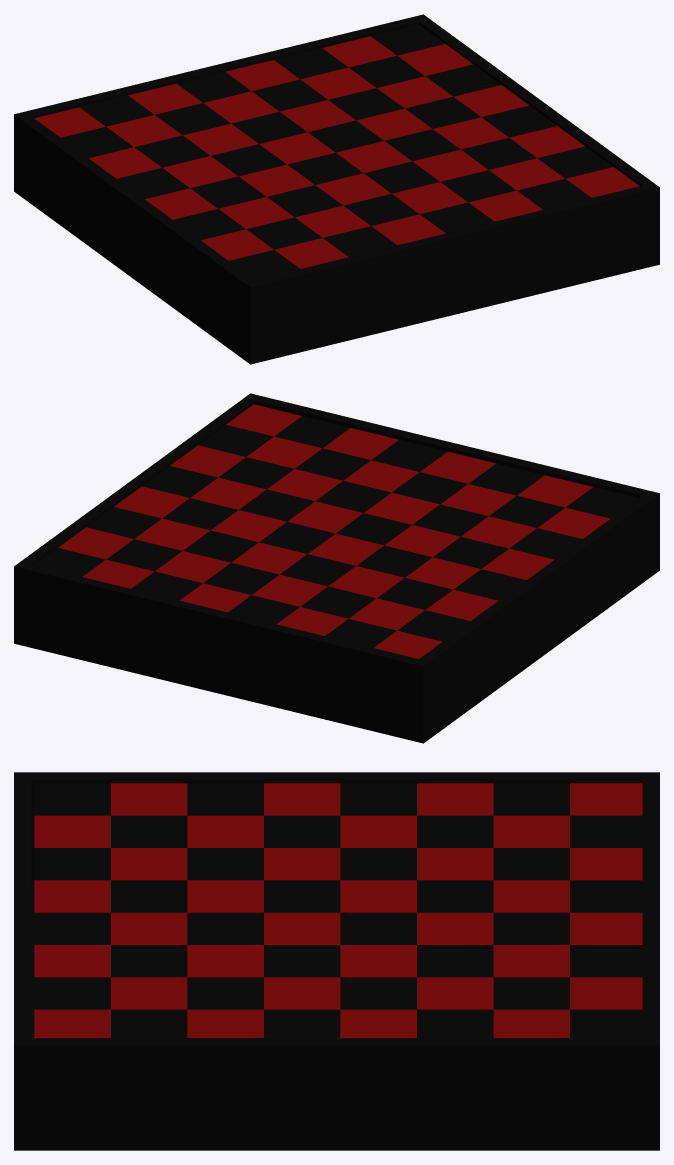
Rendered from board-with-cells-darker-2.glb.
3 views of the same model, one above another, from view 1: azimuth 30°, elevation 25°; view 2: azimuth 150°, elevation 25°; view 3: azimuth 270°, elevation 25° (orthographic). The views are drawn at different scales.
Parts seen in each view (by area): view 1: Frame, Cube.009, Cube.014, Cube.025, Cube.034, Cube.041, Cube.050, Cube.017, Cube.026, Cube.027, Cube.030, Cube.033 (+53 smaller); view 2: Frame, Cube.010, Cube.026, Cube.034, Cube.046, Cube.050, Cube.002, Cube.003, Cube.011, Cube.012, Cube.018, Cube.019 (+53 smaller); view 3: Frame, Cube, Cube.001, Cube.002, Cube.003, Cube.004, Cube.005, Cube.006, Cube.008, Cube.011, Cube.014, Cube.016 (+53 smaller).
Boxes of the visible parts, <box> form: Frame: <box>14,14,659,364</box>; Cube.009: <box>246,217,322,249</box>; Cube.014: <box>489,158,564,190</box>; Cube.025: <box>190,176,266,208</box>; Cube.034: <box>211,144,286,176</box>; Cube.041: <box>134,135,210,167</box>; Cube.050: <box>155,103,230,135</box>; Cube.017: <box>218,197,294,229</box>; Cube.026: <box>239,164,314,196</box>; Cube.027: <box>287,152,363,184</box>; Cube.030: <box>433,117,508,149</box>; Cube.033: <box>162,156,238,188</box>; Frame: <box>14,393,659,743</box>; Cube.010: <box>440,484,516,516</box>; Cube.026: <box>384,525,460,557</box>; Cube.034: <box>356,545,432,577</box>; Cube.046: <box>134,518,210,550</box>; Cube.050: <box>300,586,376,618</box>; Cube.002: <box>468,463,544,495</box>; Cube.003: <box>420,451,495,483</box>; Cube.011: <box>392,472,467,504</box>; Cube.012: <box>343,460,419,492</box>; Cube.018: <box>412,504,488,536</box>; Cube.019: <box>364,492,439,524</box>; Frame: <box>14,772,659,1150</box>; Cube: <box>34,783,110,815</box>; Cube.001: <box>34,815,110,847</box>; Cube.002: <box>34,848,110,880</box>; Cube.003: <box>34,880,110,912</box>; Cube.004: <box>34,912,110,944</box>; Cube.005: <box>34,945,110,977</box>; Cube.006: <box>34,977,110,1009</box>; Cube.008: <box>111,783,187,815</box>; Cube.011: <box>111,880,187,912</box>; Cube.014: <box>111,977,187,1009</box>; Cube.016: <box>187,783,263,815</box>.
Bounding box in the file's own units: 2.11 × 0.38 × 2.11.
